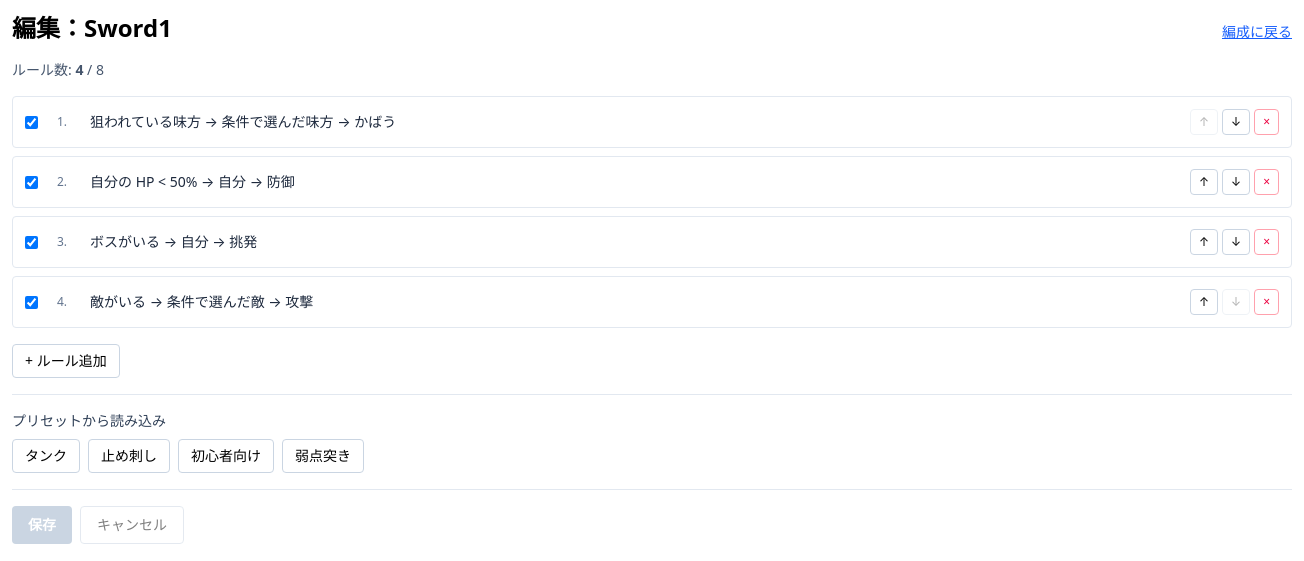
GambitEditorScreen のルール操作（下書きモード） › 有効トグル：チェックを外すと line-through が付く
This screenshot has width=1304, height=561.
Click the checkbox named "ルール 1 を有効にする": (32, 122) [25,116,38,128]
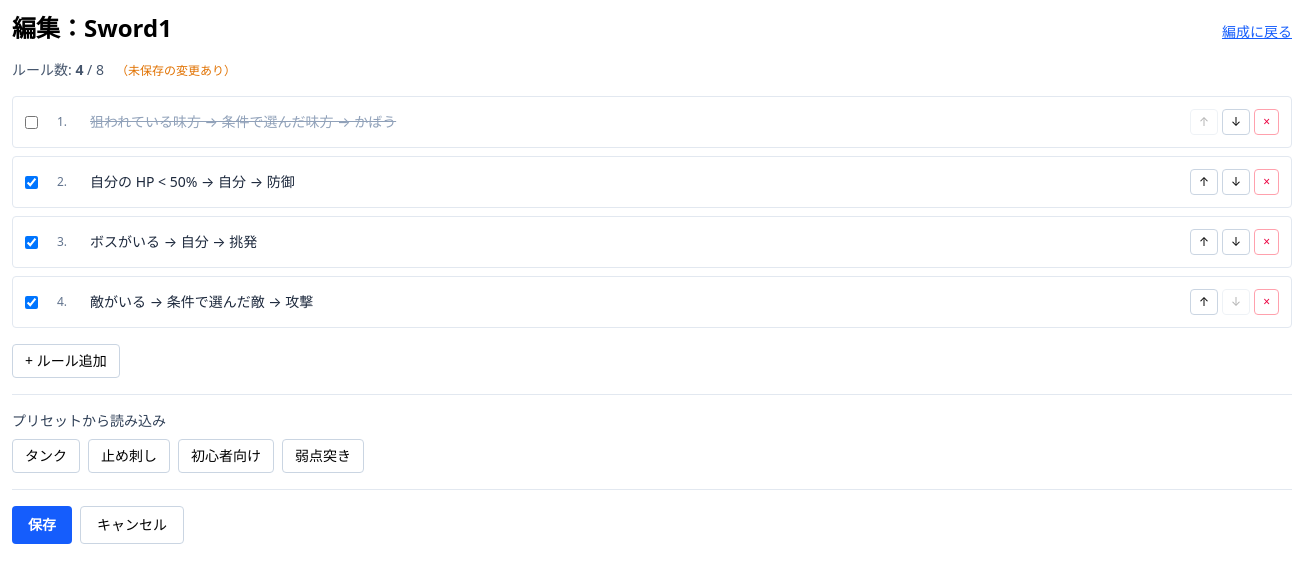
Now the checkbox named "ルール 1 を有効にする" is not checked, box [25,116,38,128]
Now the text "（未保存の変更あり）" is shown, box [116,62,236,79]
